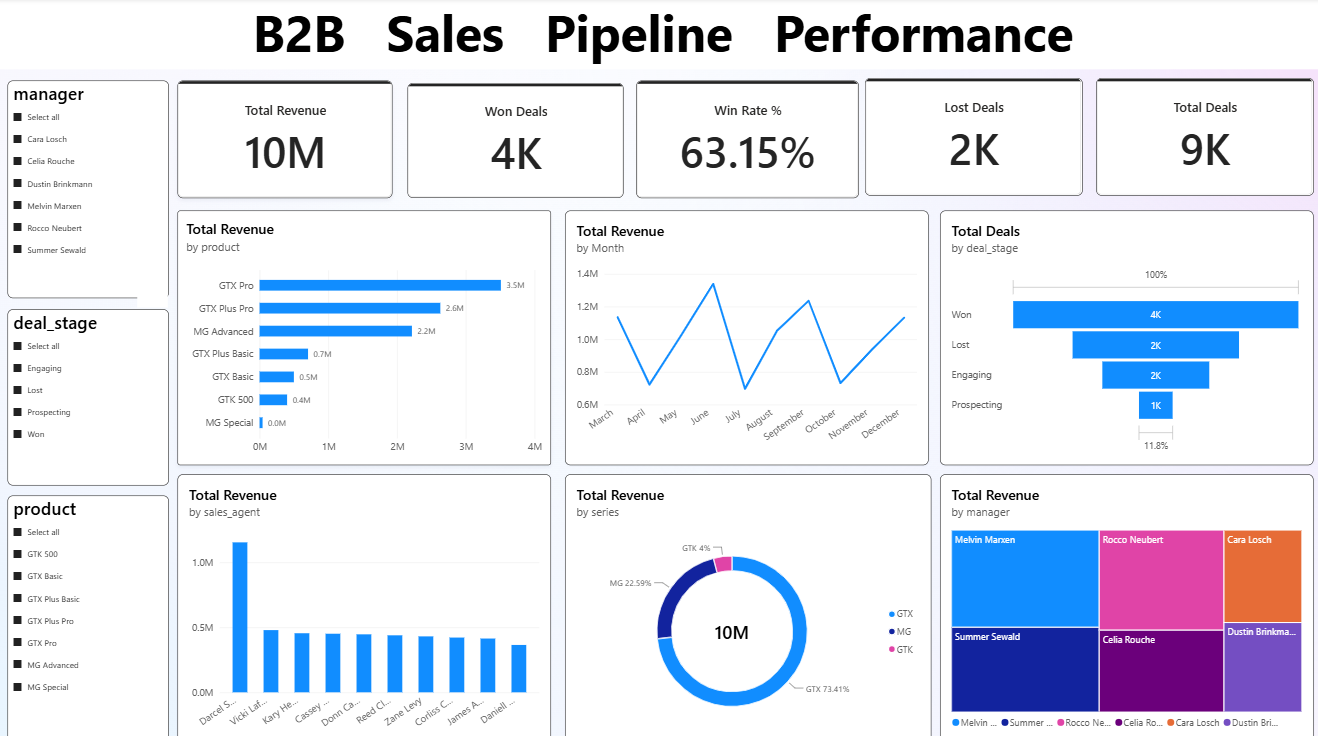

What the dashboard file says about the page in this screenshot:
{"tool":"powerbi","page":{"name":"Page 1","canvas":[1920,1080],"ordinal":0},"visuals":[{"type":"textbox","box":[10.3,0,1910.1,102.9],"z":0},{"type":"textbox","box":[0,0,1920.1,103.2],"z":1000},{"type":"cardVisual","fields":{"Data":["sales_pipeline.Total Revenue"]},"box":[257,119.4,311.3,170.1],"z":2000},{"type":"cardVisual","fields":{"Data":["sales_pipeline.Won Deals"]},"box":[589.9,123.1,313.1,166.5],"z":3000},{"type":"cardVisual","fields":{"Data":["sales_pipeline.Lost Deals"]},"box":[1252.3,115.8,314.9,170.1],"z":4000},{"type":"cardVisual","fields":{"Data":["sales_pipeline.Win Rate %"]},"box":[921.1,119.4,322.1,170.1],"z":5000},{"type":"cardVisual","fields":{"Data":["sales_pipeline.Total Deals"]},"box":[1587.1,115.8,314.9,170.1],"z":6000},{"type":"clusteredBarChart","fields":{"Category":["products.product"],"Y":["sales_pipeline.Total Revenue"]},"box":[257,307.6,541.1,369.2],"z":7000},{"type":"lineChart","fields":{"Category":["sales_pipeline.close_date.Variation.Date Hierarchy.Quarter","sales_pipeline.close_date.Variation.Date Hierarchy.Month","sales_pipeline.close_date.Variation.Date Hierarchy.Day"],"Y":["sales_pipeline.Total Revenue"]},"box":[818,307.6,526.6,369.2],"z":8000},{"type":"funnel","fields":{"Category":["sales_pipeline.deal_stage"],"Y":["sales_pipeline.Total Deals"]},"box":[1360.9,307.6,541.1,369.2],"z":9000},{"type":"columnChart","fields":{"Category":["sales_pipeline.sales_agent"],"Y":["sales_pipeline.Total Revenue"]},"box":[257,689.5,541.1,390.9],"z":10000},{"type":"donutChart","fields":{"Category":["products.series"],"Y":["sales_pipeline.Total Revenue"]},"box":[818,689.5,530.2,390.9],"z":11000},{"type":"treemap","fields":{"Group":["sales_teams.manager"],"Values":["sales_pipeline.Total Revenue"]},"box":[1360.9,689.5,541.1,390.9],"z":12000},{"type":"slicer","fields":{"Values":["sales_teams.manager"]},"box":[10.9,119.4,233.4,314.9],"z":12001},{"type":"slicer","fields":{"Values":["sales_pipeline.deal_stage"]},"box":[10.9,450.6,233.4,255.2],"z":12002},{"type":"slicer","fields":{"Values":["sales_pipeline.product"]},"box":[10.9,720.2,233.4,360.1],"z":12003}]}

Visuals, with their boxes in screenshot pixels (x1, y1, x2, y2), scaled from the page's 1920x1080 canvas onto the 1318x736 screenshot:
textbox: pyautogui.locateOnScreen(7, 0, 1317, 70)
textbox: pyautogui.locateOnScreen(0, 0, 1317, 70)
cardVisual - sales_pipeline.Total Revenue: pyautogui.locateOnScreen(176, 81, 390, 197)
cardVisual - sales_pipeline.Won Deals: pyautogui.locateOnScreen(405, 84, 620, 197)
cardVisual - sales_pipeline.Lost Deals: pyautogui.locateOnScreen(860, 79, 1076, 195)
cardVisual - sales_pipeline.Win Rate %: pyautogui.locateOnScreen(632, 81, 853, 197)
cardVisual - sales_pipeline.Total Deals: pyautogui.locateOnScreen(1089, 79, 1306, 195)
clusteredBarChart - products.product x sales_pipeline.Total Revenue: pyautogui.locateOnScreen(176, 210, 548, 461)
lineChart - sales_pipeline.close_date.Variation.Date Hierarchy.Quarter x sales_pipeline.close_date.Variation.Date Hierarchy.Month: pyautogui.locateOnScreen(562, 210, 923, 461)
funnel - sales_pipeline.deal_stage x sales_pipeline.Total Deals: pyautogui.locateOnScreen(934, 210, 1306, 461)
columnChart - sales_pipeline.sales_agent x sales_pipeline.Total Revenue: pyautogui.locateOnScreen(176, 470, 548, 735)
donutChart - products.series x sales_pipeline.Total Revenue: pyautogui.locateOnScreen(562, 470, 925, 735)
treemap - sales_teams.manager x sales_pipeline.Total Revenue: pyautogui.locateOnScreen(934, 470, 1306, 735)
slicer - sales_teams.manager: pyautogui.locateOnScreen(7, 81, 168, 296)
slicer - sales_pipeline.deal_stage: pyautogui.locateOnScreen(7, 307, 168, 481)
slicer - sales_pipeline.product: pyautogui.locateOnScreen(7, 491, 168, 735)
